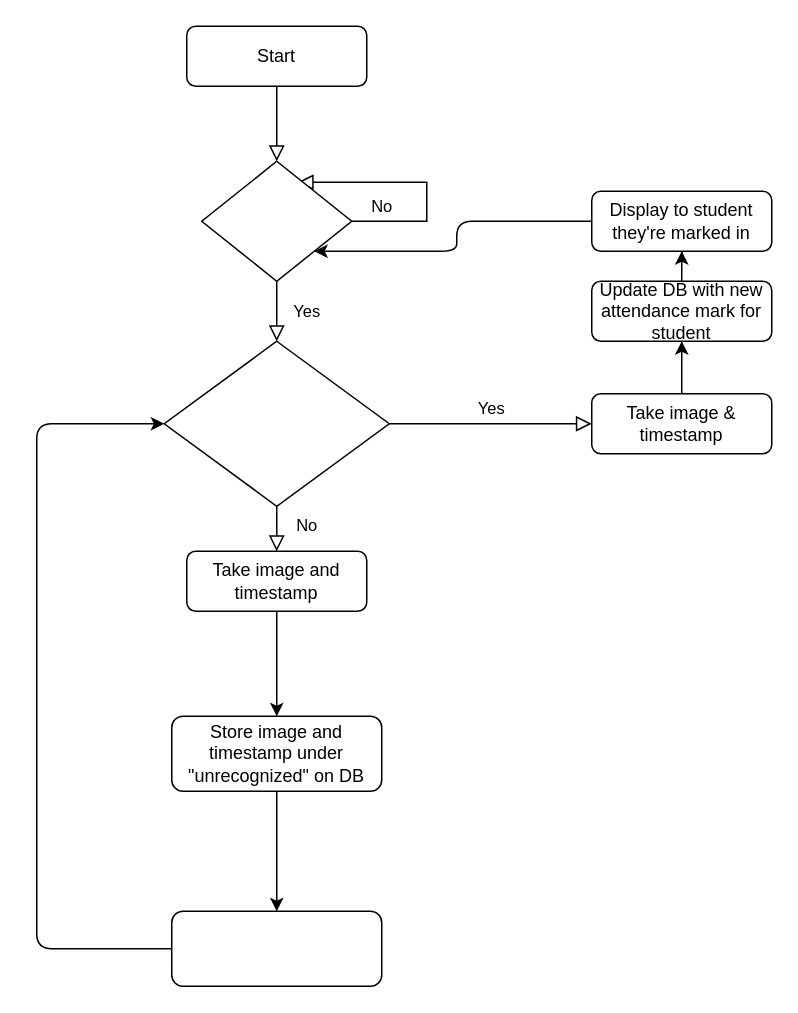
Some shapes in this 798 by 1013 pixel diagram are drawn without their labels. Here are the shapes that lost their labels. From the top down, the centre of each, then its label:
(x=276, y=220): Is event ongoing?
(x=276, y=423): Does Camera Recgonise Student?
(x=276, y=948): Display to student that they need to speak to the lecturer
